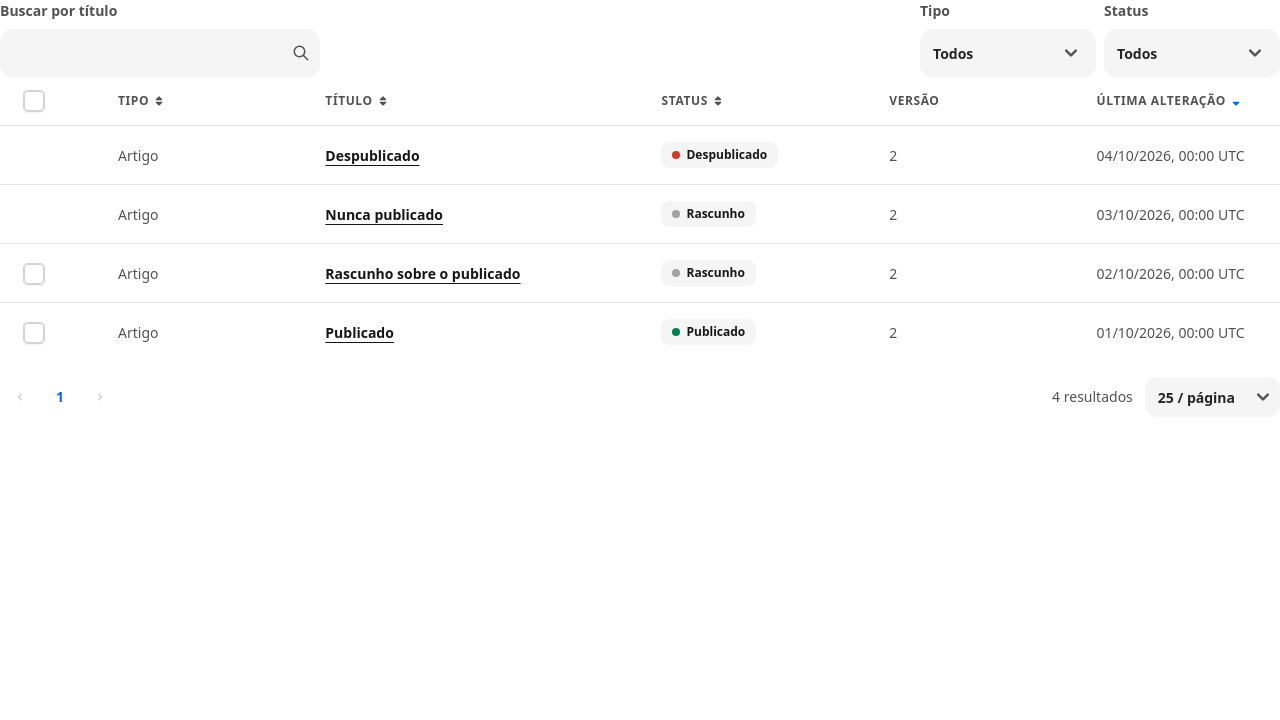
despublicar em massa (#495) › a confirmação diz quantos saem, o 404 e a trava; confirmar despublica e zera a seleção
Click the checkbox named "Selecionar todas as linhas". click: (34, 101)
box: 24,91 -> 44,111
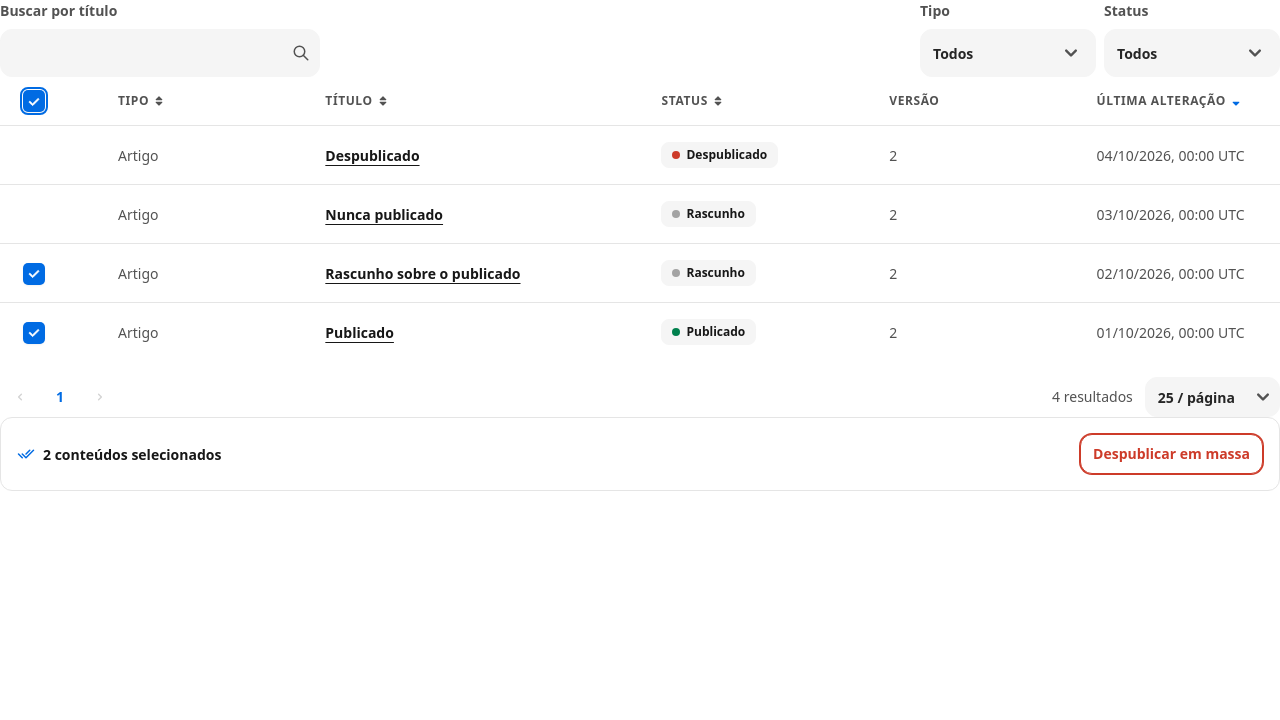
Click the button "Despublicar em massa". click: (1172, 454)
box: 1080,434 -> 1263,474
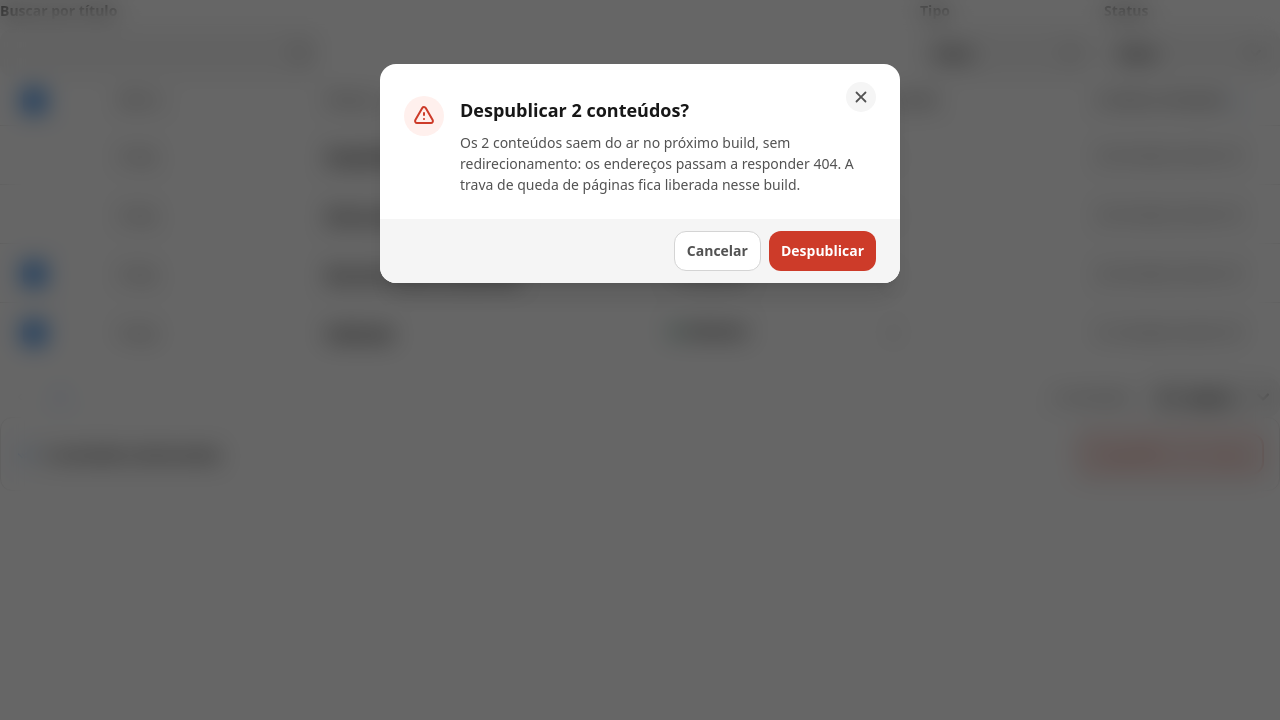
Now the dialog "Despublicar 2 conteúdos?" shows "Os 2 conteúdos saem do ar", box 460,133 -> 639,152
Now the dialog "Despublicar 2 conteúdos?" shows "404", box 460,133 -> 854,194
Now the dialog "Despublicar 2 conteúdos?" shows "trava de queda de páginas fica liberada", box 460,133 -> 854,194
Click the button "Despublicar". click: (822, 251)
box: 769,231 -> 876,271
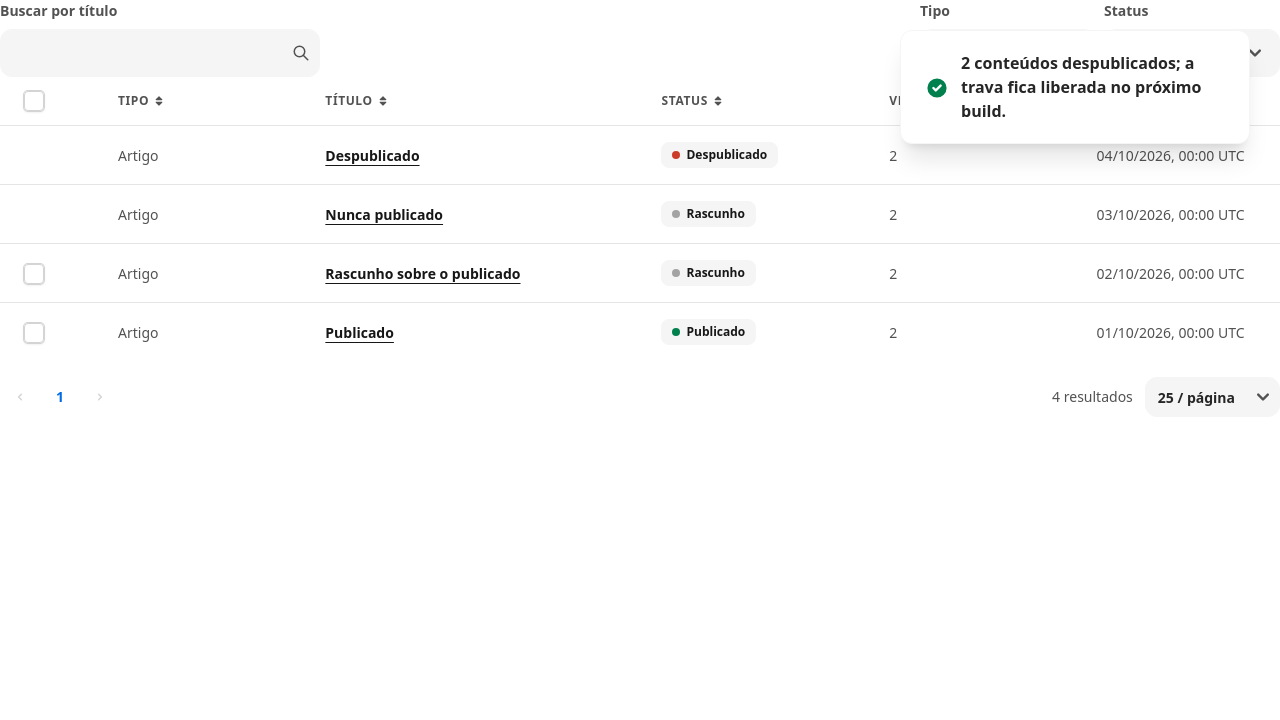
Now the text "2 conteúdos despublicados; a trava fica liberada no próximo build." is shown, box 961,51 -> 1209,123
Now the button "Despublicar em massa" is gone
Now the checkbox named "Selecionar Publicado" is not checked, box 24,323 -> 44,343
